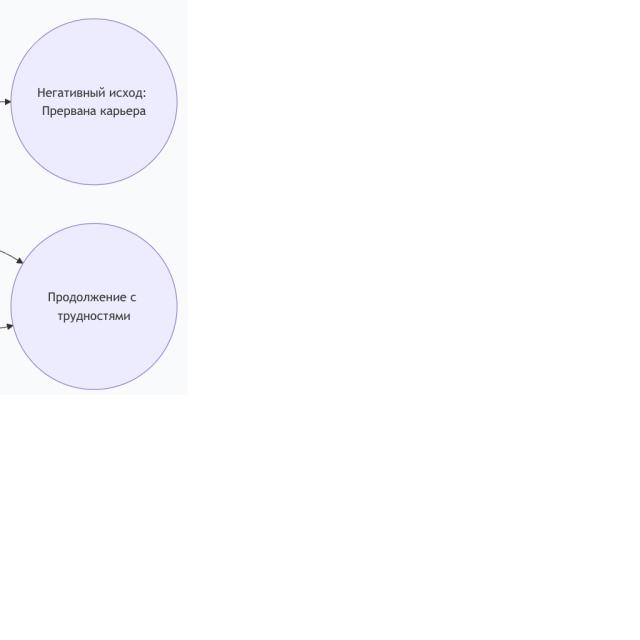circle: (11, 19, 176, 184), (12, 224, 176, 389)
